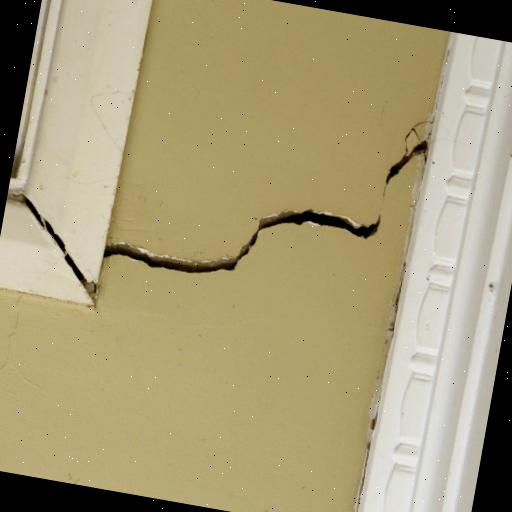spalling: (111, 131, 423, 278)
